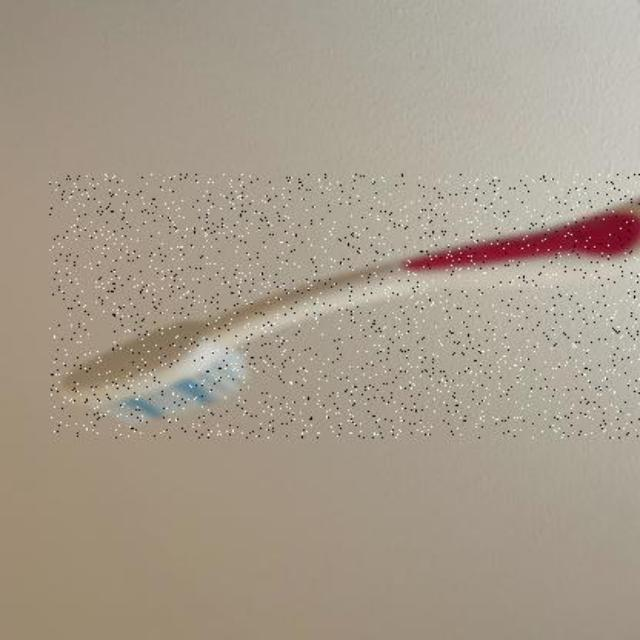toothbrush: (50, 174, 640, 438)
